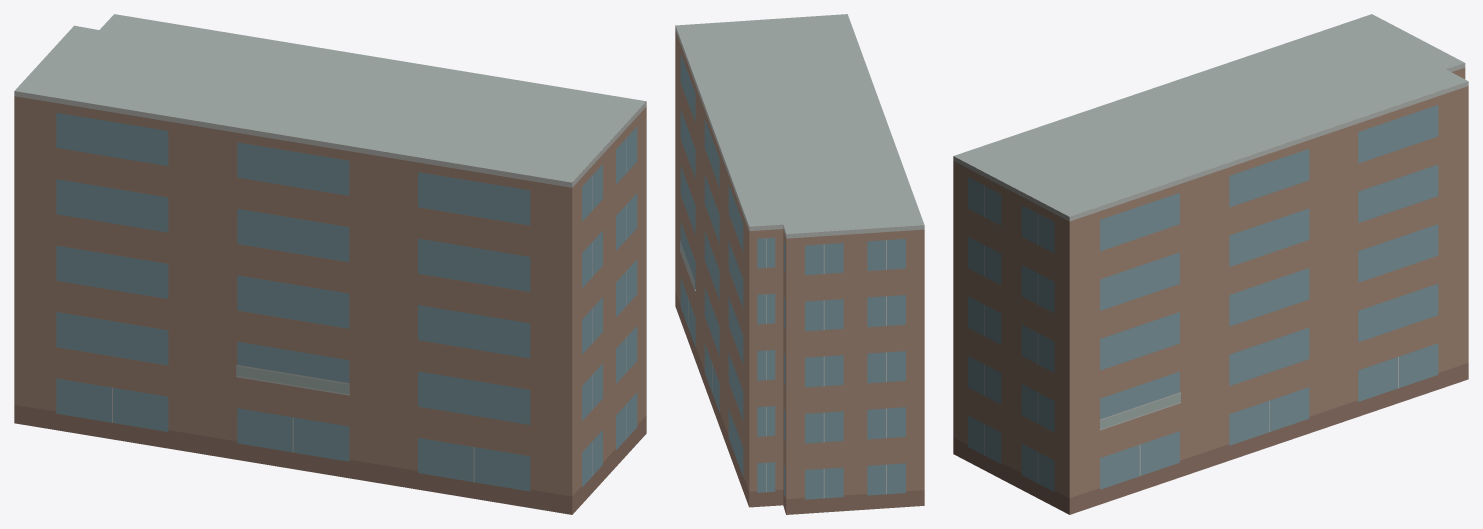
File: survey-upis-32594578.glb
3 renders of one model, left to right at view 1: azimuth 30°, elevation 25°; view 2: azimuth 150°, elevation 25°; view 3: azimuth 270°, elevation 25°, orthographic. The views are drawn at different scales.
Visible parts, largest first — view 1: survey-upis-32594578.tmp; view 2: survey-upis-32594578.tmp; view 3: survey-upis-32594578.tmp.
Boxes of the visible parts, <box> form: survey-upis-32594578.tmp: <box>14,14,646,514</box>; survey-upis-32594578.tmp: <box>675,14,924,514</box>; survey-upis-32594578.tmp: <box>953,14,1468,514</box>.
Size of the model in its own units: 22.86 by 15.65 by 24.54.
